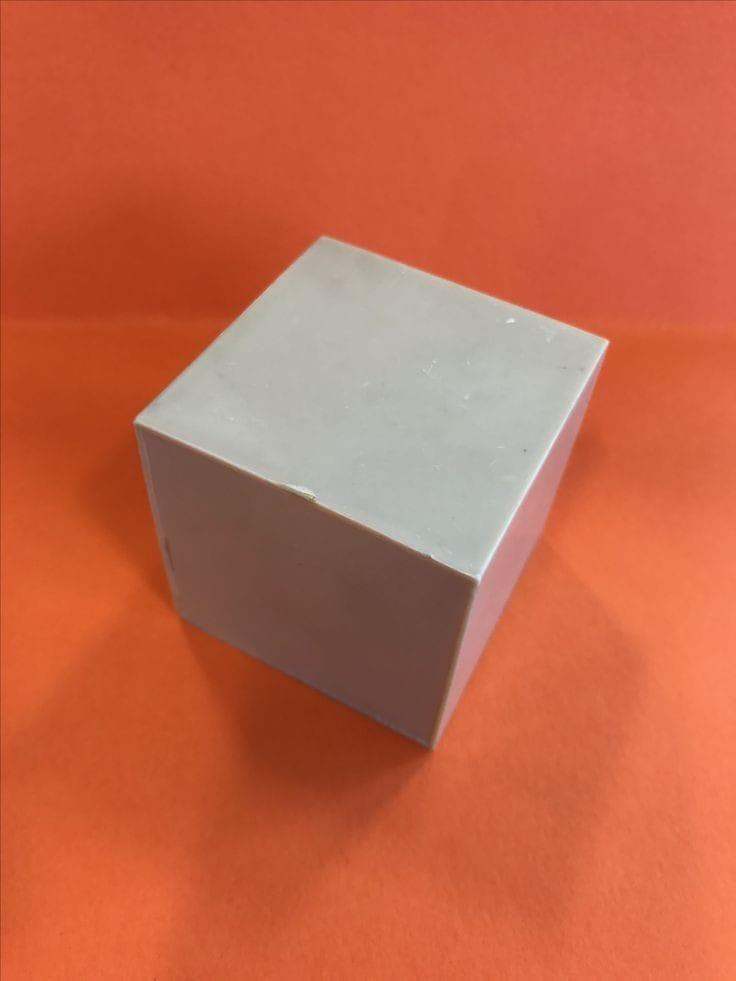cubos: (105, 217, 650, 772)
